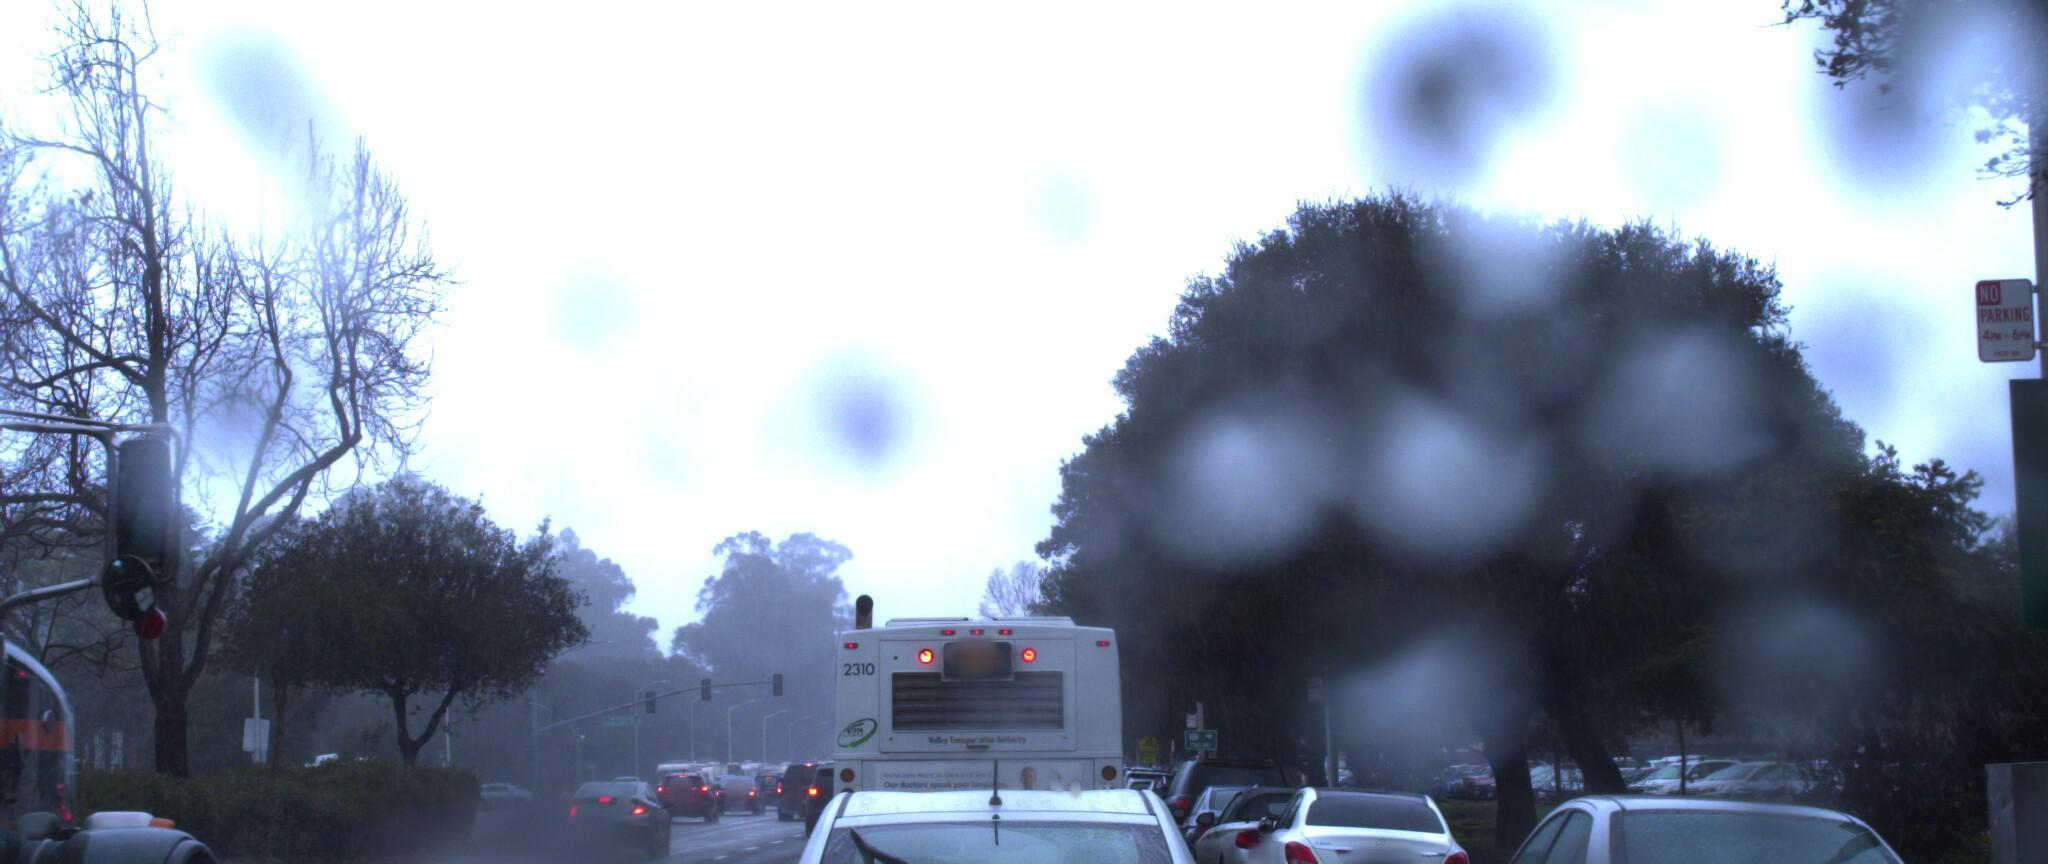bus: (814, 563, 1151, 864)
car: (705, 747, 1287, 864), (1386, 775, 2017, 864), (1208, 773, 1479, 864), (1802, 797, 2048, 864), (1169, 784, 1366, 864), (545, 782, 665, 864)
truck: (0, 0, 304, 864)
